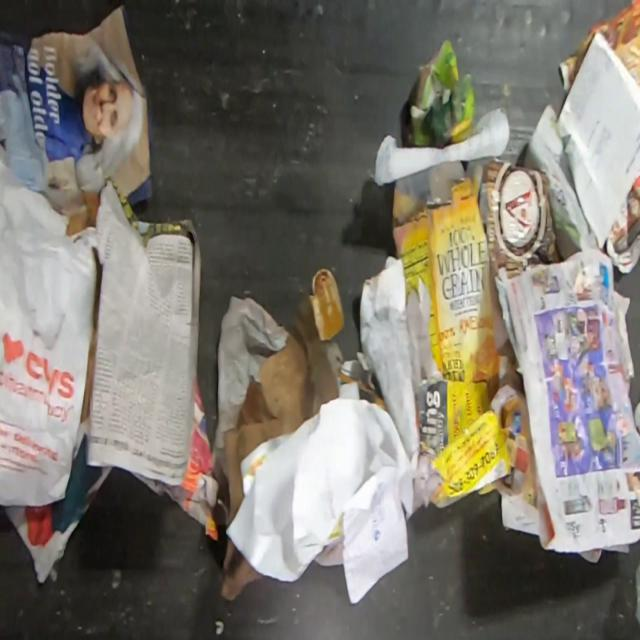cardboard: (392, 158, 508, 382), (467, 155, 565, 281), (310, 268, 347, 339)
